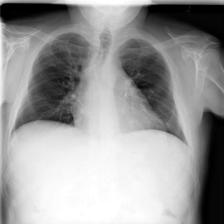normal: (3, 28, 194, 148)
